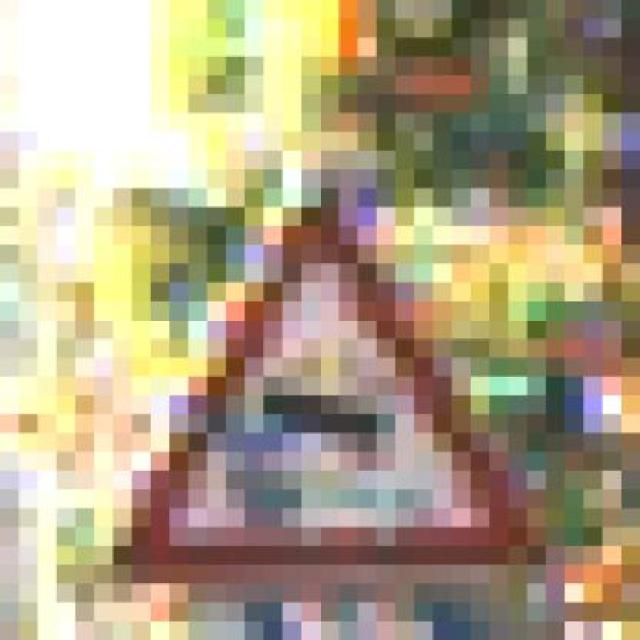Slippery Road Ahead: (95, 169, 547, 583)
